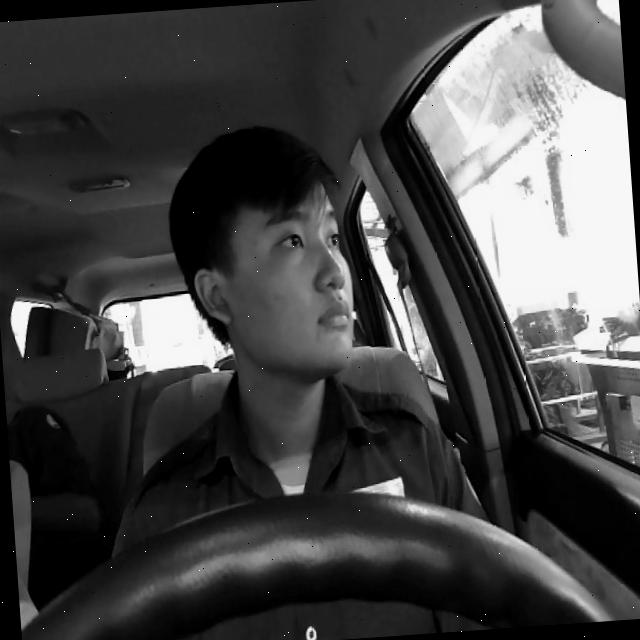seeing_right: (185, 175, 359, 383)
